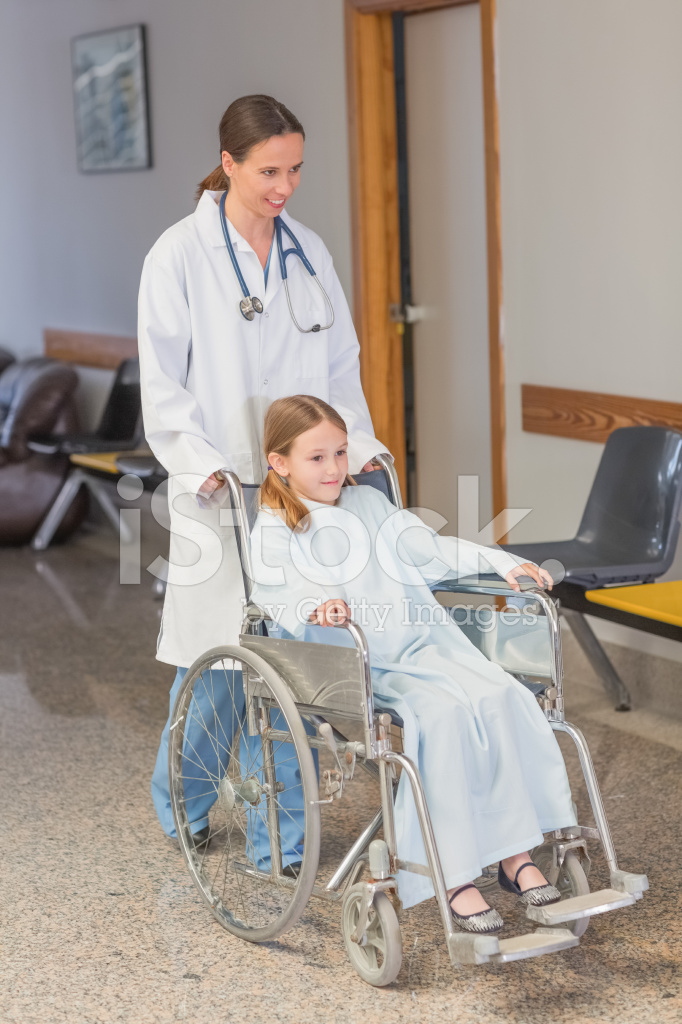wheelchair: (171, 390, 647, 987)
